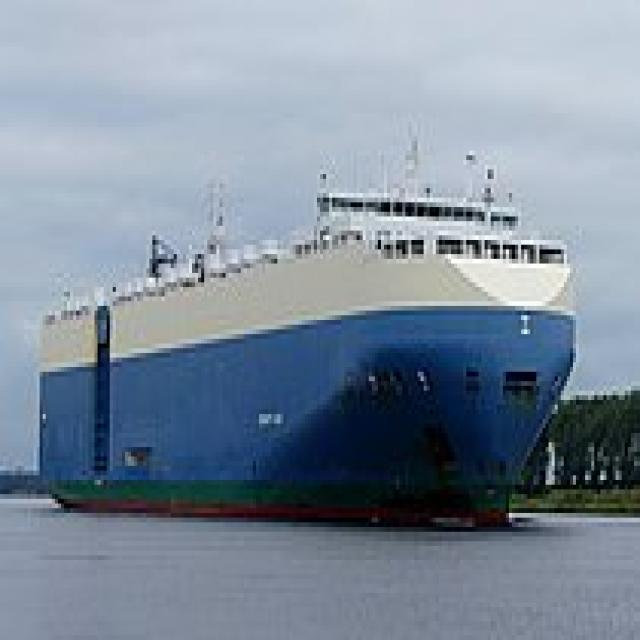Carrier: (33, 118, 573, 532)
